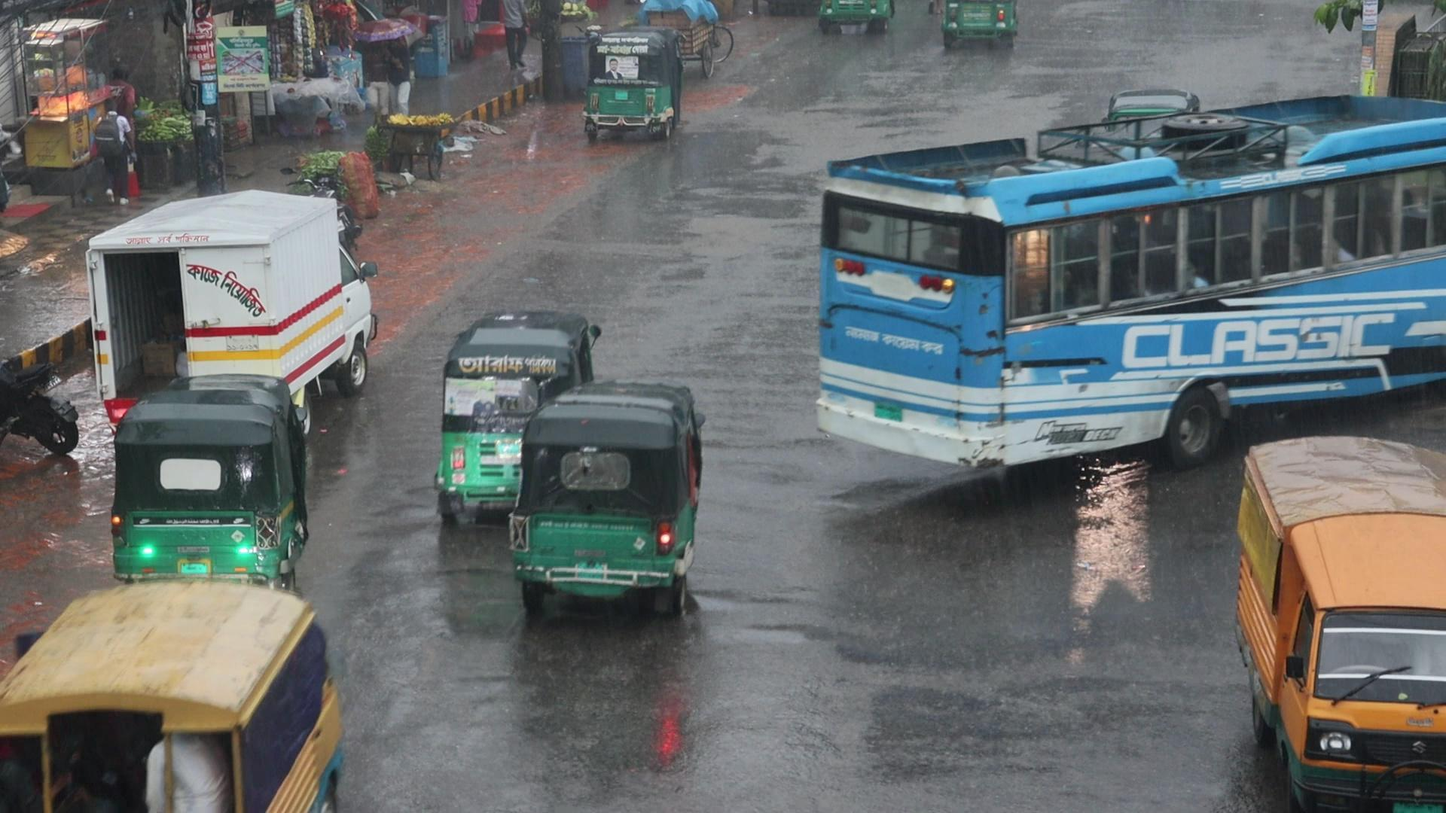Bus: (807, 96, 1446, 501)
Truck: (1200, 428, 1446, 813)
